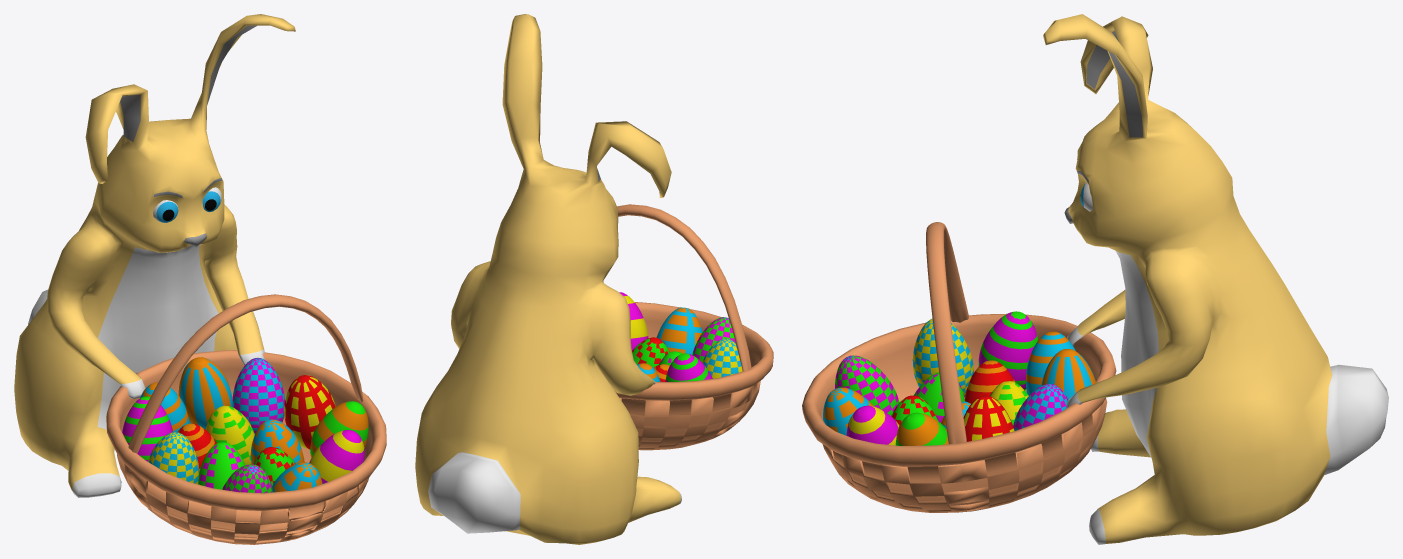
The model's file is east-asset.glb.
3 renders of one model, left to right at view 1: azimuth 30°, elevation 25°; view 2: azimuth 150°, elevation 25°; view 3: azimuth 270°, elevation 25°, orthographic. The views are drawn at different scales.
Visible parts, largest first — view 1: Sphere, ovos; view 2: Sphere, ovos; view 3: Sphere, ovos.
Boxes of the visible parts, bbox=[...] form: Sphere: bbox=[14, 14, 295, 497]; ovos: bbox=[106, 294, 386, 544]; Sphere: bbox=[415, 14, 681, 544]; ovos: bbox=[615, 204, 773, 450]; Sphere: bbox=[1043, 14, 1388, 544]; ovos: bbox=[802, 222, 1116, 512].
Bounding box in the file's own units: 16.9 × 30.16 × 31.3.
